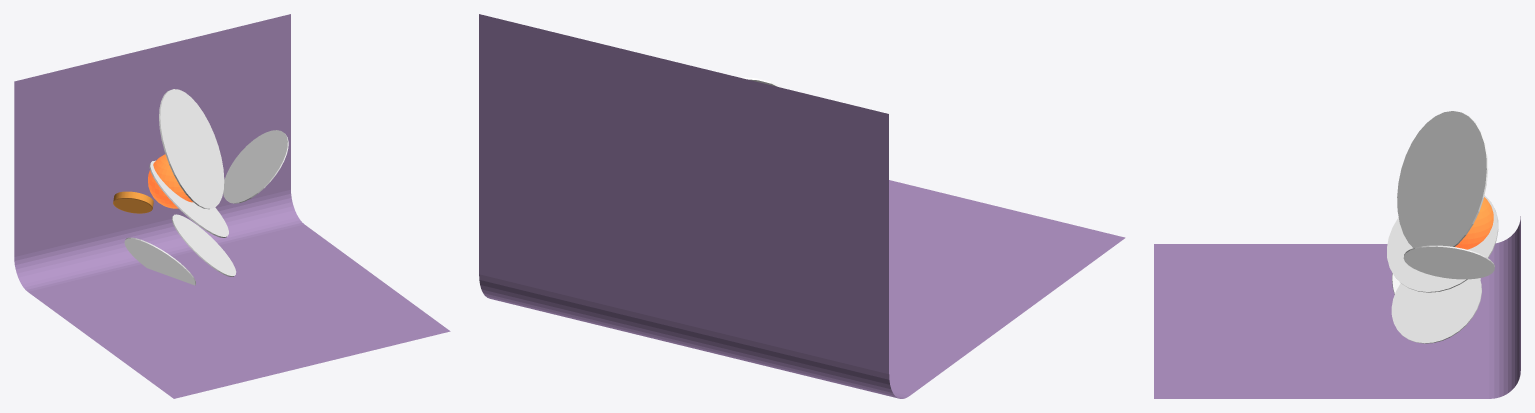
File: СЦЕНА.glb
3 views of the same model, side by side, from view 1: azimuth 30°, elevation 25°; view 2: azimuth 150°, elevation 25°; view 3: azimuth 270°, elevation 25° (orthographic). The views are drawn at different scales.
Visible parts, largest first — view 1: Plane, Cylinder.001, Cylinder.004, Cylinder.005, Cylinder.003, Cylinder.002, Sphere, Cylinder; view 2: Plane; view 3: Plane, Cylinder.001, Cylinder.005, Cylinder.002, Cylinder.004, Sphere.
Part boxes in pixels (x1,y1,x2,y2): Plane: [14, 14, 450, 398]; Cylinder.001: [159, 89, 224, 209]; Cylinder.004: [223, 130, 288, 203]; Cylinder.005: [171, 214, 236, 276]; Cylinder.003: [124, 237, 195, 285]; Cylinder.002: [149, 160, 228, 237]; Sphere: [148, 154, 192, 208]; Cylinder: [113, 191, 153, 213]; Plane: [479, 14, 1125, 398]; Plane: [1154, 216, 1520, 398]; Cylinder.001: [1397, 111, 1488, 247]; Cylinder.005: [1391, 278, 1481, 343]; Cylinder.002: [1387, 195, 1498, 292]; Cylinder.004: [1403, 245, 1494, 279]; Sphere: [1455, 197, 1493, 249].
Size of the model in its own units: 20 by 14.7 by 20.
